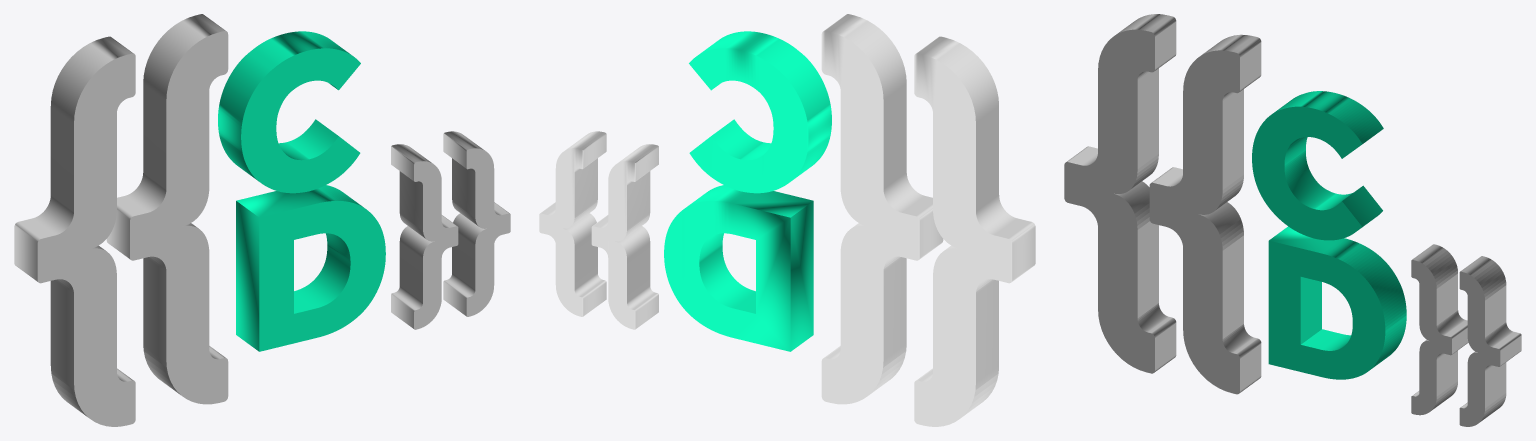
File: asset.glb
The picture shows the model from 3 angles, left to right: view 1: azimuth 30°, elevation 25°; view 2: azimuth 150°, elevation 25°; view 3: azimuth 330°, elevation 25°; orthographic projection. The views are drawn at different scales.
Parts seen in each view (by area): view 1: Shape 3, Shape 2, Shape 0, Shape 1, Shape 4, Shape 5; view 2: Shape 3, Shape 2, Shape 0, Shape 1, Shape 4, Shape 5; view 3: Shape 2, Shape 3, Shape 0, Shape 1, Shape 5, Shape 4.
Boxes of the visible parts, x1=… form: Shape 3: x1=14, y1=36, x2=135, y2=426; Shape 2: x1=106, y1=14, x2=228, y2=404; Shape 0: x1=236, y1=185, x2=385, y2=351; Shape 1: x1=218, y1=31, x2=360, y2=193; Shape 4: x1=391, y1=144, x2=458, y2=329; Shape 5: x1=443, y1=131, x2=510, y2=316; Shape 3: x1=914, y1=36, x2=1035, y2=426; Shape 2: x1=821, y1=14, x2=943, y2=404; Shape 0: x1=664, y1=185, x2=813, y2=351; Shape 1: x1=689, y1=31, x2=831, y2=193; Shape 4: x1=591, y1=144, x2=658, y2=329; Shape 5: x1=539, y1=131, x2=606, y2=316; Shape 2: x1=1149, y1=34, x2=1261, y2=394; Shape 3: x1=1064, y1=14, x2=1176, y2=373; Shape 0: x1=1268, y1=226, x2=1406, y2=379; Shape 1: x1=1252, y1=91, x2=1383, y2=240; Shape 5: x1=1459, y1=256, x2=1521, y2=426; Shape 4: x1=1411, y1=244, x2=1468, y2=415.
Bounding box in the file's own units: 66.84 × 50.05 × 5.69.
